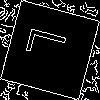L: (25, 25, 76, 65)
